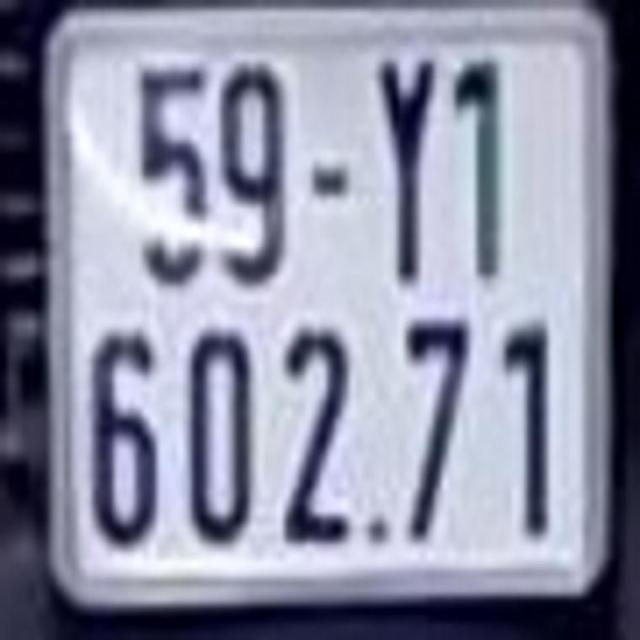0: (190, 321, 248, 545)
1: (498, 309, 554, 538), (452, 49, 502, 280)
2: (278, 325, 352, 546)
5: (138, 62, 209, 287)
6: (90, 328, 161, 545)
7: (408, 320, 476, 555)
9: (220, 59, 290, 290)
Y: (372, 52, 440, 286)
